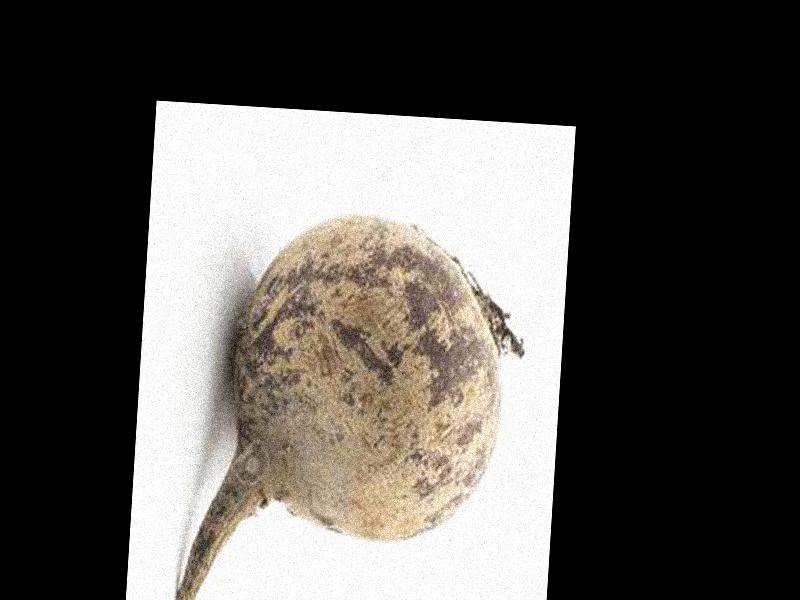Beet: (176, 204, 531, 600)
